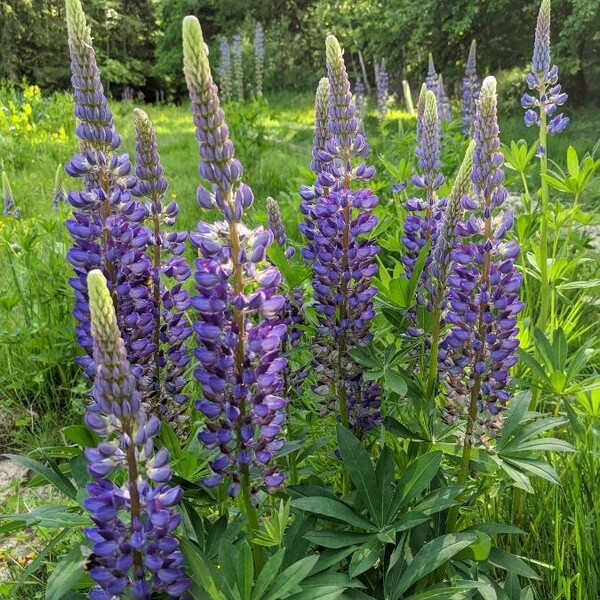obstacle: (54, 53, 299, 566), (294, 51, 541, 425), (199, 411, 539, 589)
